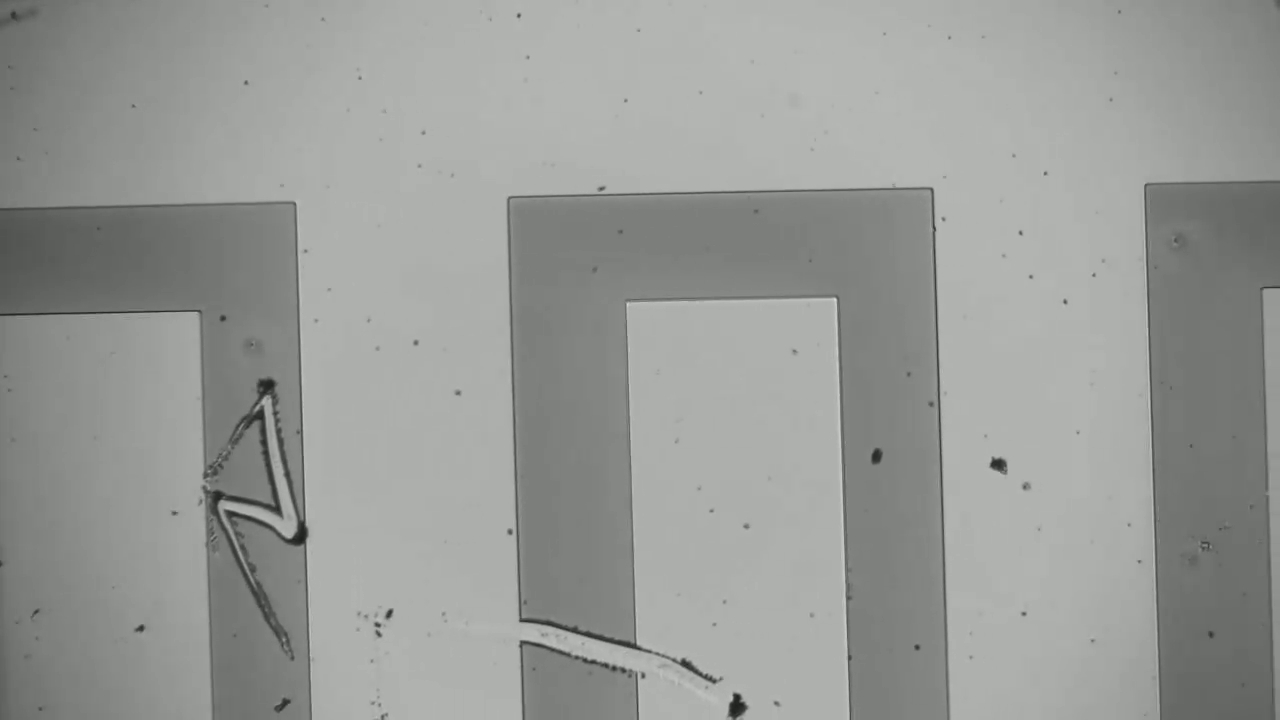Short_circuit: (489, 588, 671, 701), (183, 475, 327, 555)
